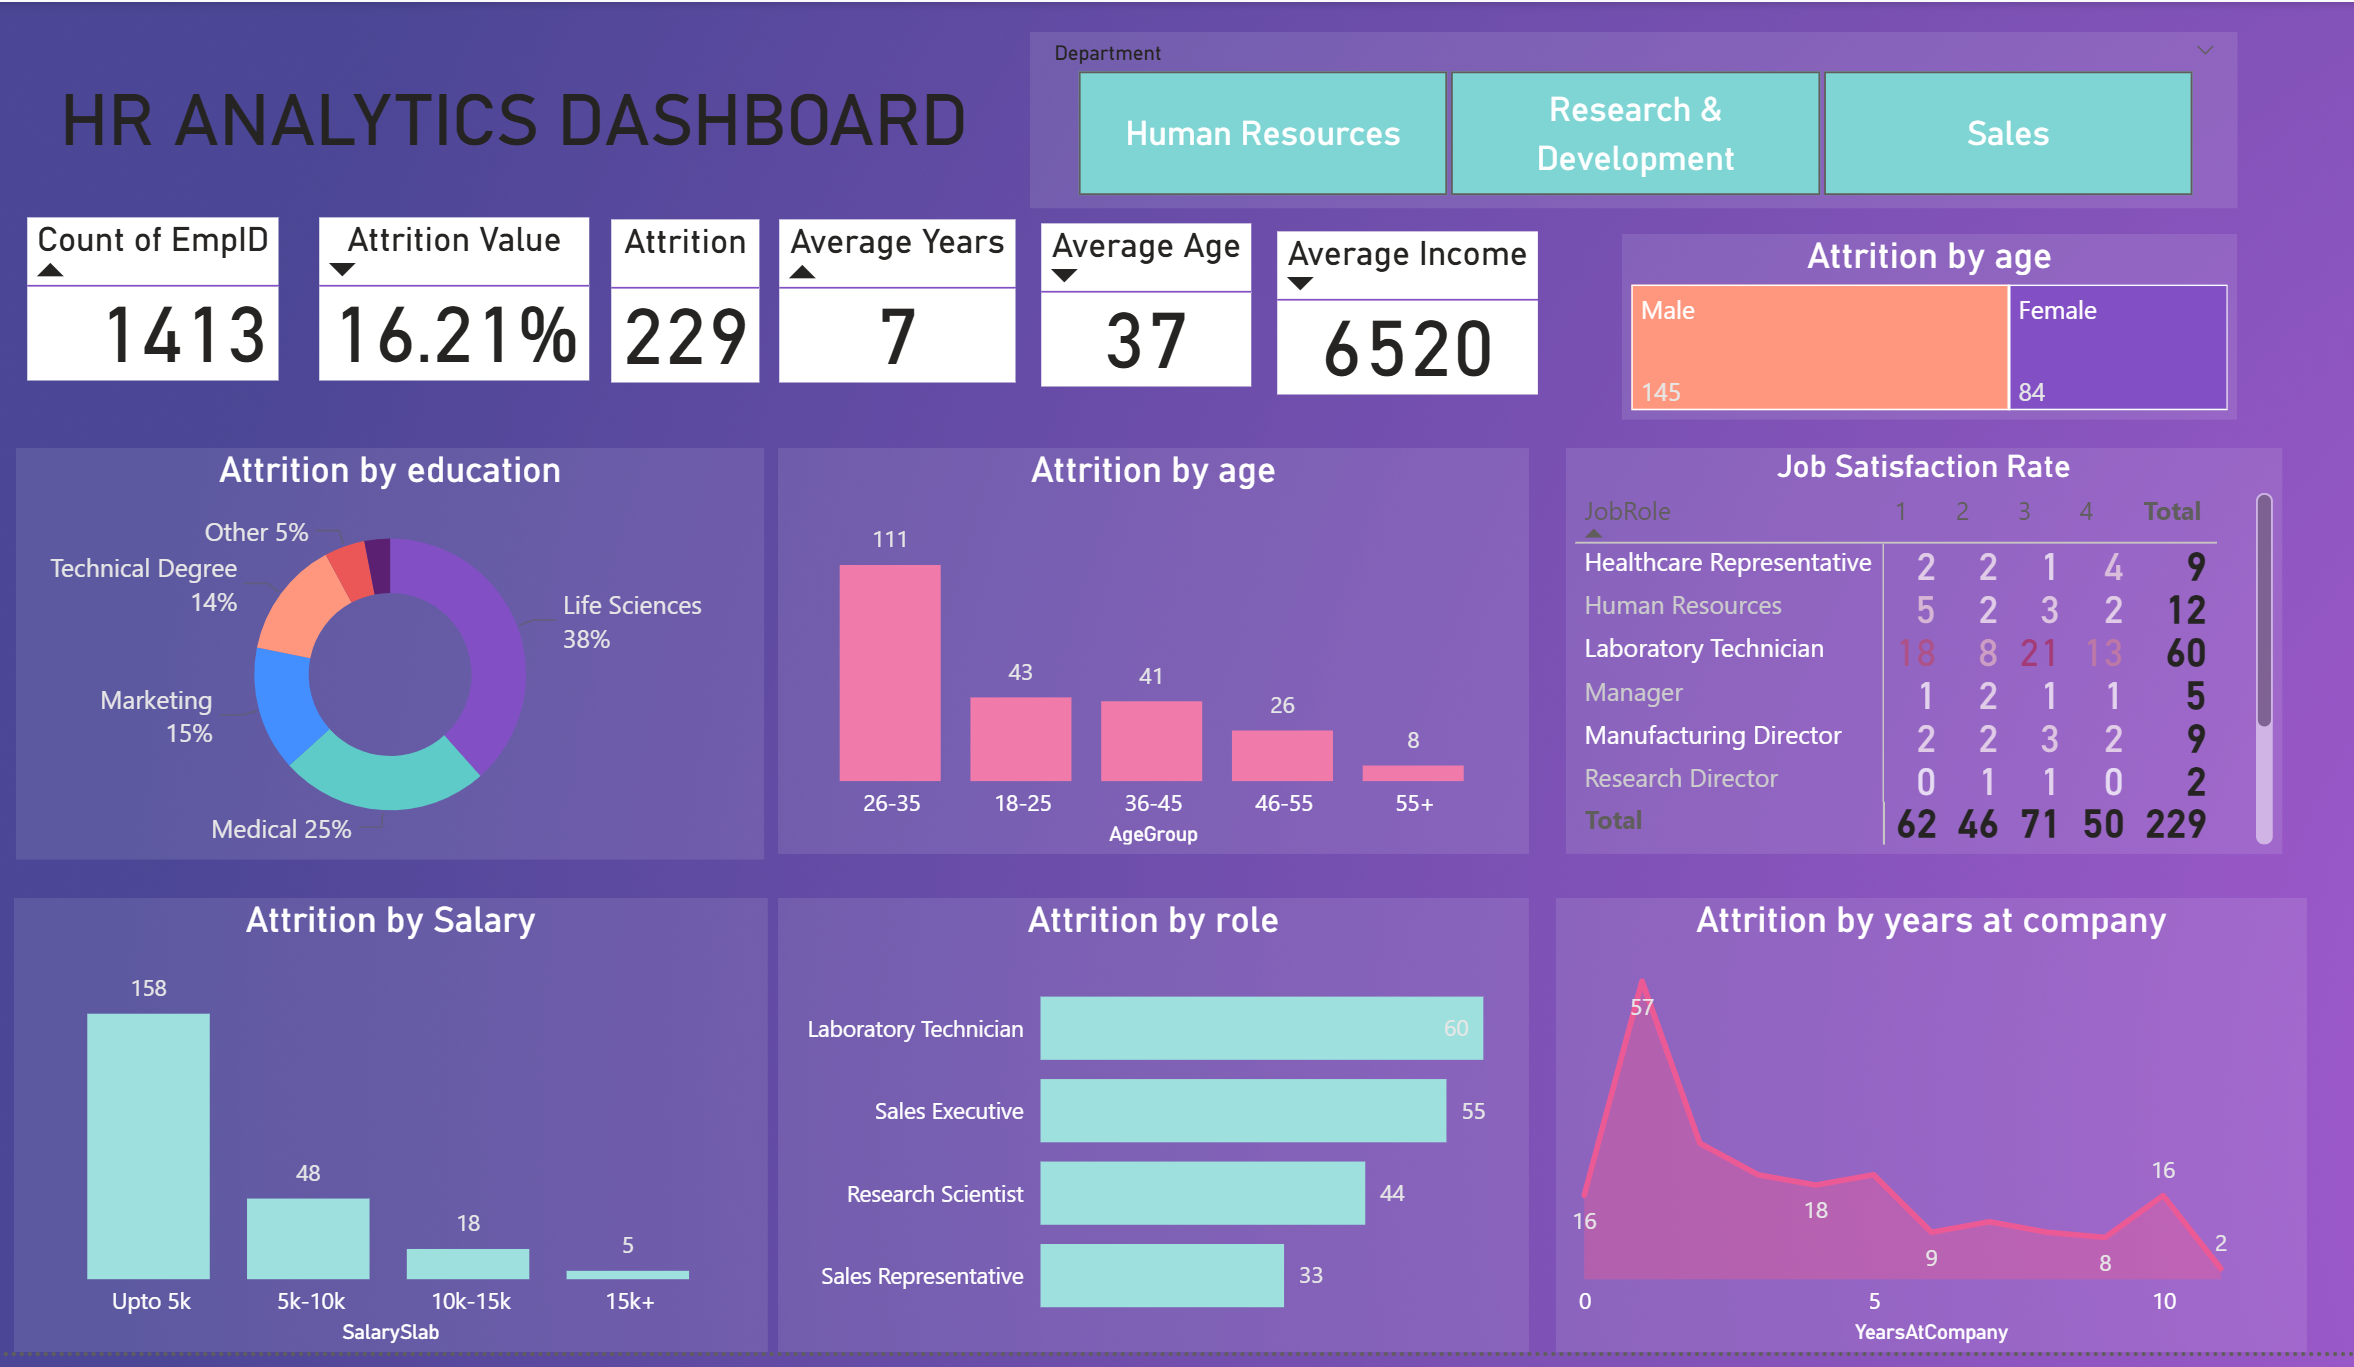

This screenshot's page, from the dashboard's own definition file:
{"tool":"powerbi","page":{"name":"Page 1","canvas":[1280,720],"ordinal":0},"visuals":[{"type":"tableEx","fields":{"Values":["Avg(HR_Analytics.Age)"]},"box":[562.2,113.4,154.4,127.9],"z":0},{"type":"tableEx","fields":{"Values":["HR_Analytics.EmpID"]},"box":[21.7,109.8,155.6,127.9],"z":1000},{"type":"tableEx","fields":{"Values":["Avg(HR_Analytics.MonthlyIncome)"]},"box":[687.7,117,189.4,113.4],"z":2000},{"type":"tableEx","fields":{"Values":["HR_Analytics.Measure"]},"box":[177.3,109.8,173.7,131.5],"z":3000},{"type":"tableEx","fields":{"Values":["HR_Analytics.Attrition_Value1"]},"box":[333,111,155.6,127.9],"z":4000},{"type":"tableEx","fields":{"Values":["Avg(HR_Analytics.YearsAtCompany)"]},"box":[422.3,111,154.4,127.9],"z":5000},{"type":"donutChart","title":"Attrition by education","fields":{"Y":["Sum(HR_Analytics.Attrition_Value)"],"Category":["HR_Analytics.EducationField"]},"box":[21.4,238,399.1,219.5],"z":6000},{"type":"columnChart","title":"Attrition by age","fields":{"Category":["HR_Analytics.AgeGroup"],"Y":["Sum(HR_Analytics.Attrition_Value)"]},"box":[427.6,238,400.5,216.7],"z":7000},{"type":"pivotTable","title":"Job Satisfaction Rate","fields":{"Rows":["HR_Analytics.JobRole"],"Columns":["HR_Analytics.JobSatisfaction"],"Values":["Sum(HR_Analytics.Attrition_Value)"]},"box":[848.1,238,382,216.7],"z":8000},{"type":"columnChart","title":"Attrition by Salary","fields":{"Category":["HR_Analytics.SalarySlab"],"Y":["Sum(HR_Analytics.Attrition_Value)"]},"box":[20,477.5,402,242.3],"z":9000},{"type":"barChart","title":"Attrition by role","fields":{"Category":["HR_Analytics.JobRole"],"Y":["Sum(HR_Analytics.Attrition_Value)"]},"box":[427.6,477.5,400.5,242.3],"z":10000},{"type":"areaChart","title":"Attrition by years at company","fields":{"Category":["HR_Analytics.YearsAtCompany"],"Y":["Sum(HR_Analytics.Attrition_Value)"]},"box":[842.4,477.5,400.5,242.3],"z":11000},{"type":"treemap","title":"Attrition by age","fields":{"Group":["HR_Analytics.Gender"],"Values":["Sum(HR_Analytics.Attrition_Value)"]},"box":[878.3,124.3,328.2,98.9],"z":12000},{"type":"slicer","fields":{"Values":["HR_Analytics.Department"]},"box":[562.2,15.7,644.2,94.1],"z":13000},{"type":"textbox","box":[21.7,35,530.8,55.5],"z":14000}]}

Visuals, with their boxes on the page's 1280x720 design canvas (x1, y1, x2, y2). These are canvas units, not pixel positions in the 2354x1367 screenshot, which may show the page scaled, cropped or inside an application window:
tableEx - Avg(HR_Analytics.Age): bbox=(562, 113, 717, 241)
tableEx - HR_Analytics.EmpID: bbox=(22, 110, 177, 238)
tableEx - Avg(HR_Analytics.MonthlyIncome): bbox=(688, 117, 877, 230)
tableEx - HR_Analytics.Measure: bbox=(177, 110, 351, 241)
tableEx - HR_Analytics.Attrition_Value1: bbox=(333, 111, 489, 239)
tableEx - Avg(HR_Analytics.YearsAtCompany): bbox=(422, 111, 577, 239)
"Attrition by education" donutChart: bbox=(21, 238, 420, 458)
"Attrition by age" columnChart: bbox=(428, 238, 828, 455)
"Job Satisfaction Rate" pivotTable: bbox=(848, 238, 1230, 455)
"Attrition by Salary" columnChart: bbox=(20, 478, 422, 720)
"Attrition by role" barChart: bbox=(428, 478, 828, 720)
"Attrition by years at company" areaChart: bbox=(842, 478, 1243, 720)
"Attrition by age" treemap: bbox=(878, 124, 1206, 223)
slicer - HR_Analytics.Department: bbox=(562, 16, 1206, 110)
textbox: bbox=(22, 35, 552, 90)
